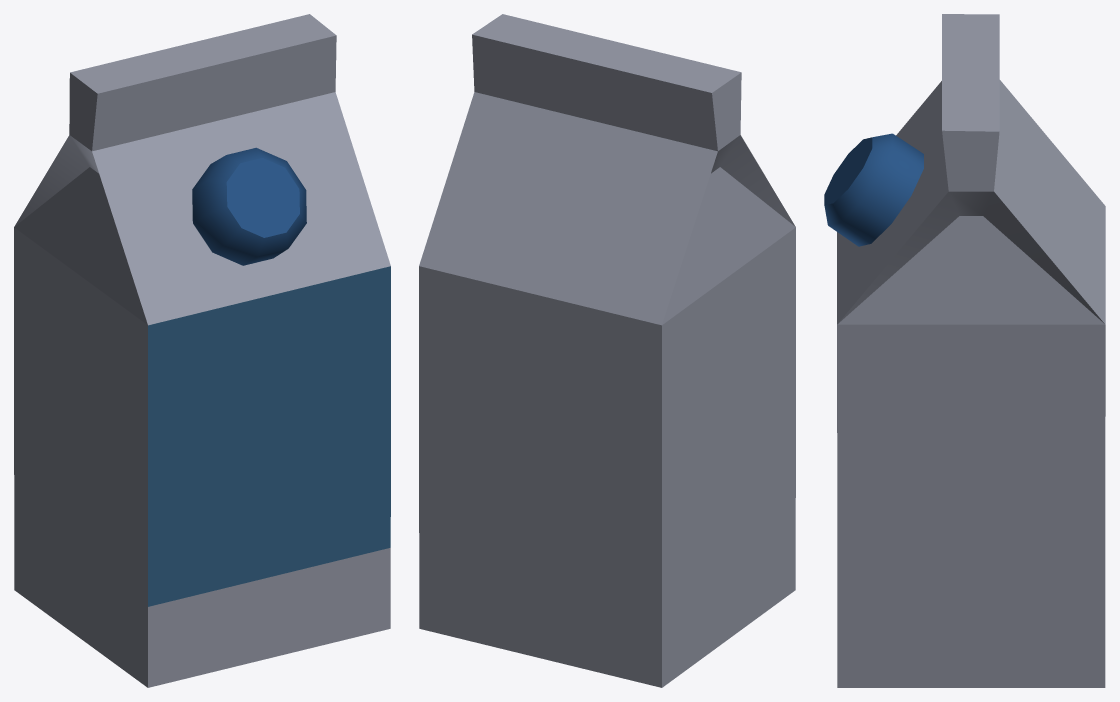
Rendered from food_milk_packet_01.fbx.
The picture shows the model from 3 angles, left to right: view 1: azimuth 30°, elevation 25°; view 2: azimuth 150°, elevation 25°; view 3: azimuth 270°, elevation 25°; orthographic projection.
Visible parts, largest first — view 1: food_milk_packet_01; view 2: food_milk_packet_01; view 3: food_milk_packet_01.
Boxes of the visible parts, <box> form: food_milk_packet_01: <box>14,14,390,687</box>; food_milk_packet_01: <box>419,14,795,687</box>; food_milk_packet_01: <box>824,14,1105,687</box>.
Size of the model in its own units: 26.72 by 58.23 by 26.67.
